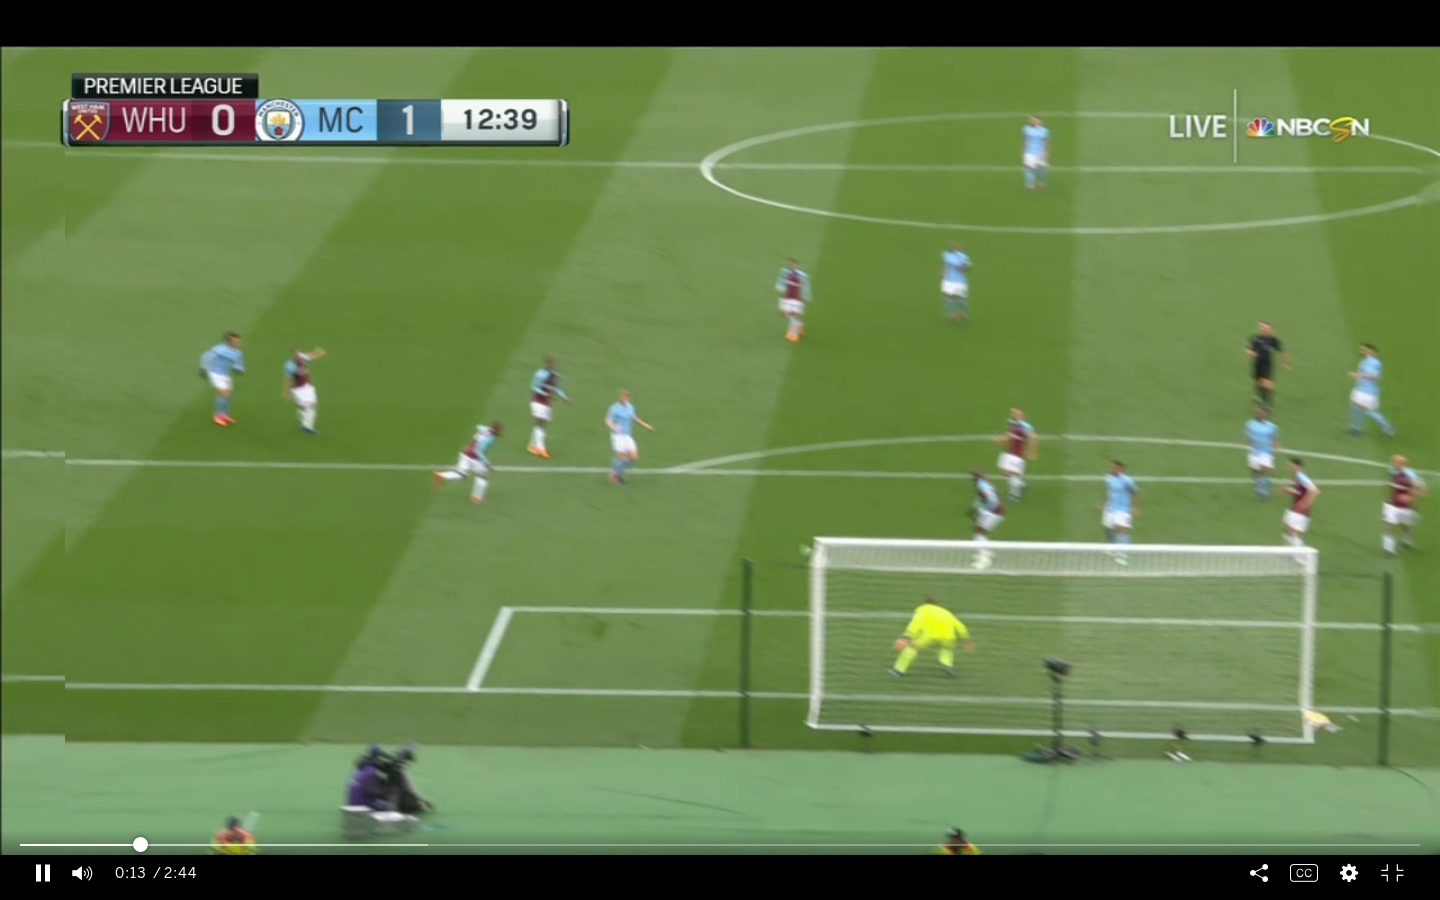referee: (1242, 311, 1295, 422)
soccer player: (881, 594, 978, 692), (433, 417, 512, 512), (1093, 454, 1150, 576), (1344, 337, 1404, 449), (1376, 451, 1432, 562), (524, 349, 575, 468), (990, 397, 1045, 508), (276, 339, 335, 439), (198, 322, 250, 436), (765, 249, 822, 349), (602, 382, 655, 489), (962, 457, 1010, 571), (1278, 452, 1321, 566), (1238, 403, 1281, 505), (933, 239, 979, 329), (1018, 112, 1053, 194)
